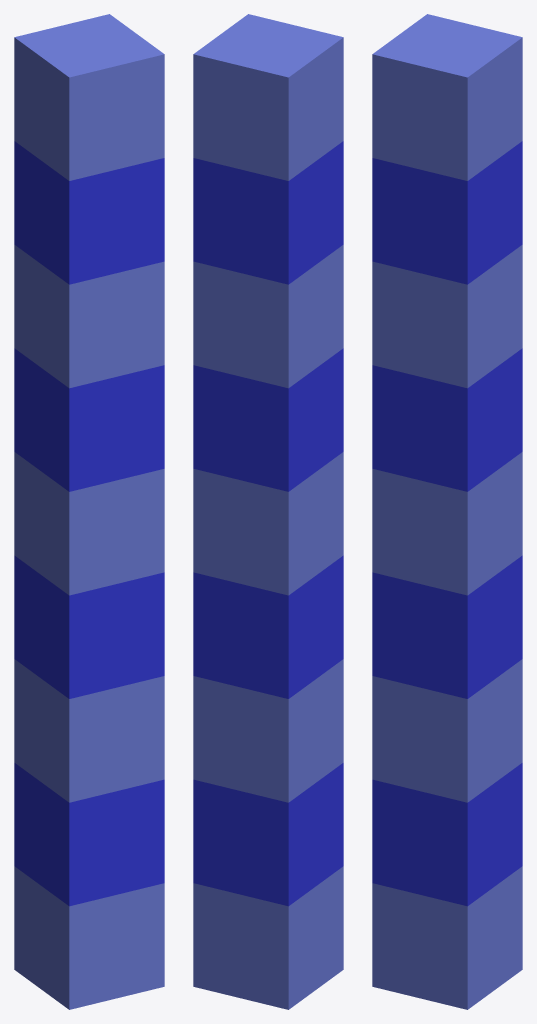
The model's file is M_Building_01.fbx.
3 views of the same model, side by side, from view 1: azimuth 30°, elevation 25°; view 2: azimuth 150°, elevation 25°; view 3: azimuth 330°, elevation 25° (orthographic).
Parts seen in each view (by area): view 1: M_Building_01; view 2: M_Building_01; view 3: M_Building_01.
Boxes of the visible parts, x1=… form: M_Building_01: x1=14, y1=14, x2=164, y2=1009; M_Building_01: x1=193, y1=14, x2=343, y2=1009; M_Building_01: x1=372, y1=14, x2=522, y2=1009.
Bounding box in the file's own units: 5.4 × 50.45 × 5.4.
